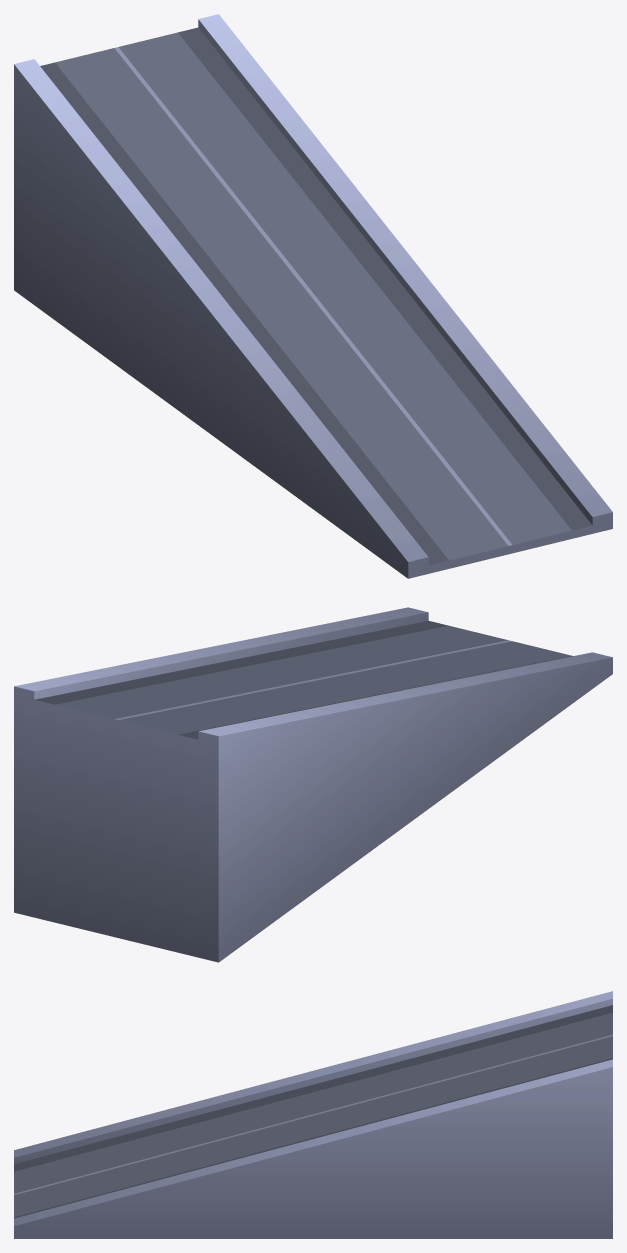
Rendered from ramp.glb.
The picture shows the model from 3 angles, top to bottom: view 1: azimuth 30°, elevation 25°; view 2: azimuth 150°, elevation 25°; view 3: azimuth 270°, elevation 25°; orthographic projection. The views are drawn at different scales.
Visible parts, largest first — view 1: road-slant; view 2: road-slant; view 3: road-slant.
Part boxes in pixels (<box>): road-slant: <box>14,14,612,578</box>; road-slant: <box>14,607,612,962</box>; road-slant: <box>14,991,612,1238</box>.
Size of the model in its own units: 1.8 by 1.9 by 6.
1 material, 1 textured.
